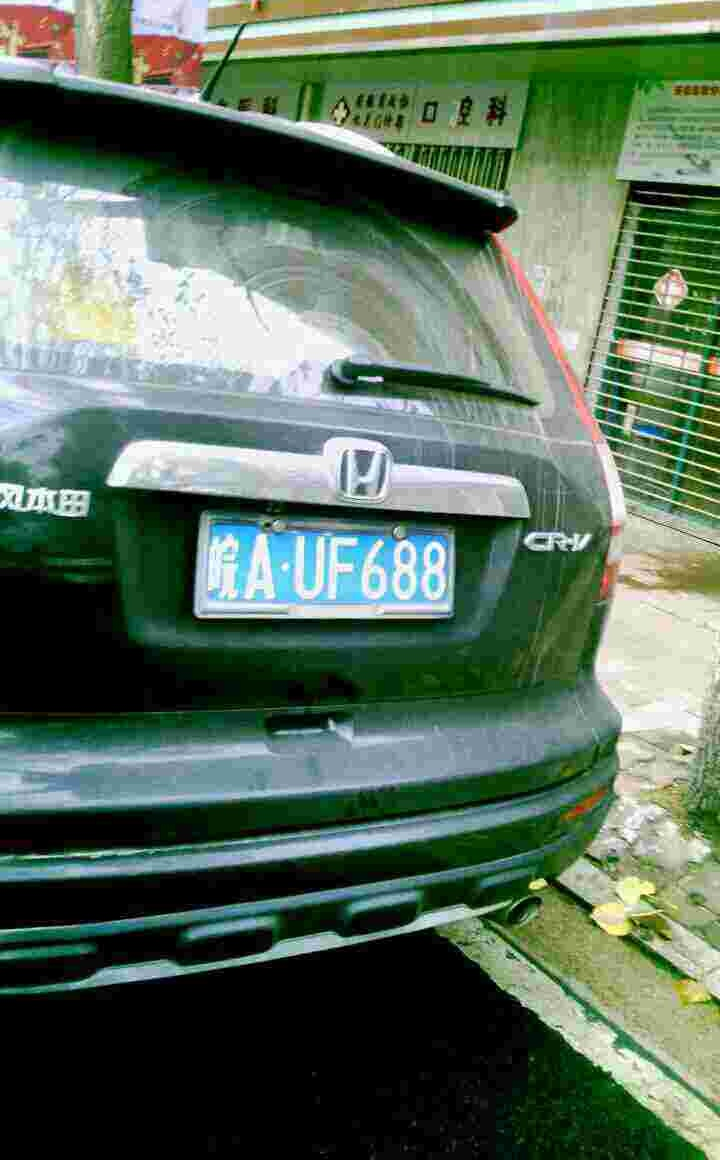plate: (208, 513, 467, 624)
